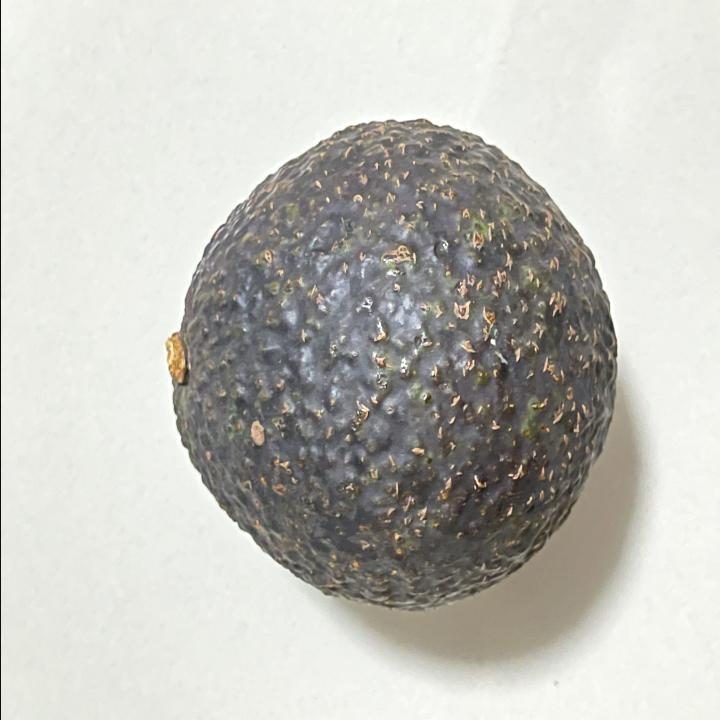Level1: (144, 102, 630, 630)
